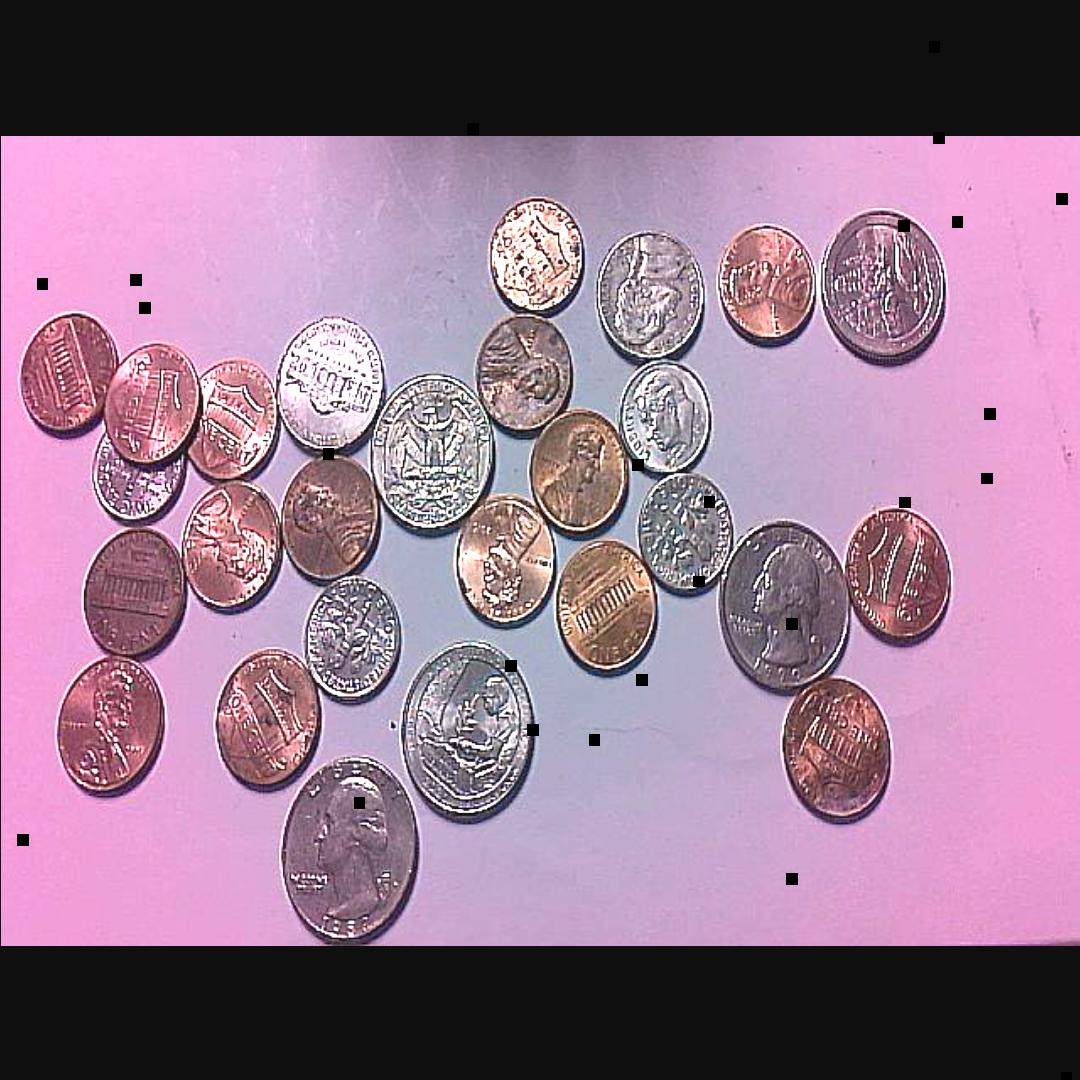Dime: (634, 466, 732, 596), (302, 570, 400, 699), (618, 354, 712, 479)
Nickel: (278, 312, 386, 454), (597, 228, 705, 359)
Penny: (778, 672, 894, 824), (840, 501, 953, 646), (211, 645, 321, 793), (56, 655, 164, 796), (452, 484, 557, 628), (555, 538, 656, 677), (712, 218, 820, 346), (81, 525, 186, 656), (278, 449, 381, 580), (530, 405, 629, 540), (101, 338, 201, 467), (19, 309, 116, 439), (181, 481, 278, 609), (489, 192, 587, 317), (184, 356, 277, 486), (474, 314, 570, 437)
Quarter: (278, 756, 420, 945), (398, 641, 537, 824), (717, 518, 854, 694), (813, 206, 947, 366), (366, 371, 493, 537)
